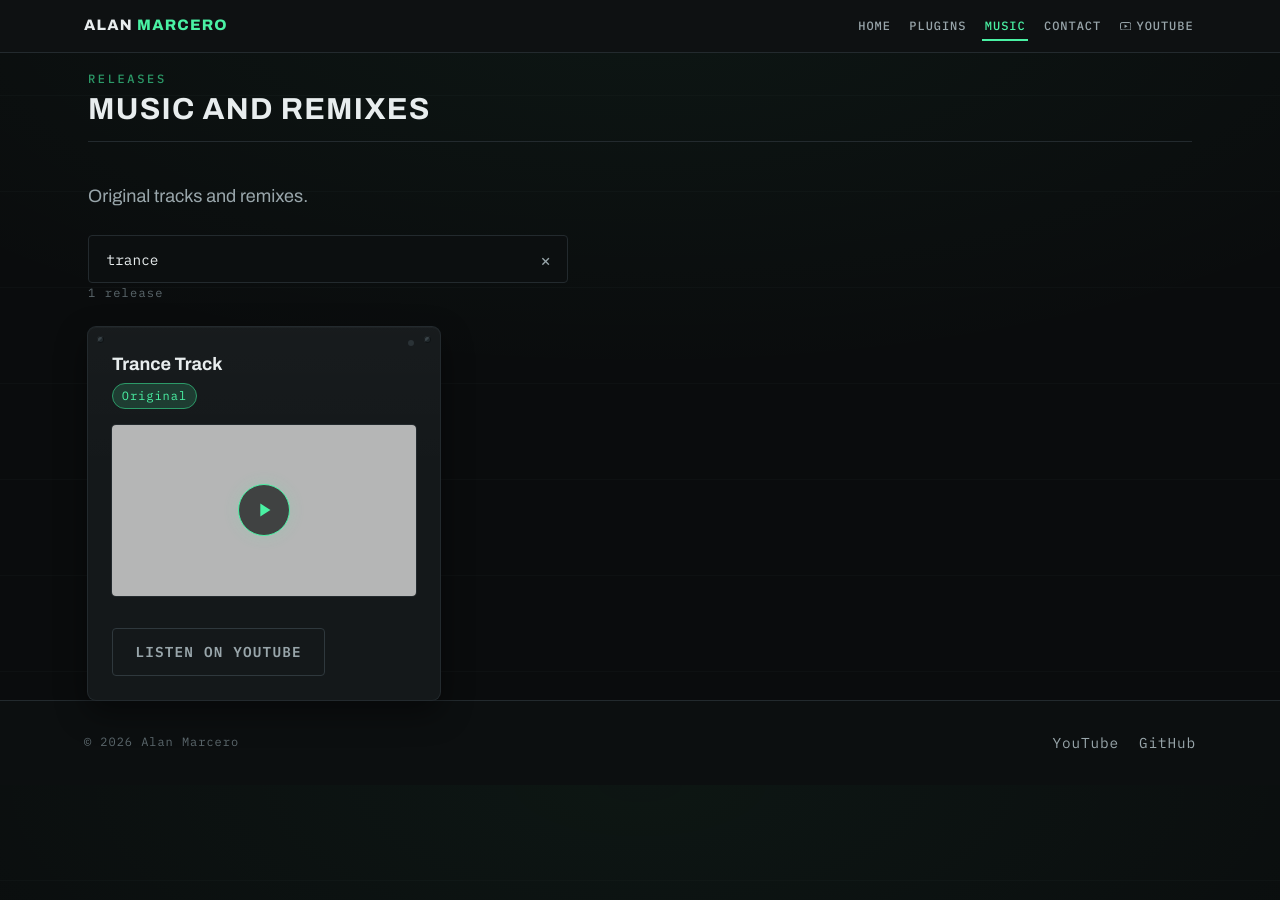
Scenario: MusicPage › hydrates ?q= and restores it on popstate
expect the heading "Trance Track" is shown: met, box [112,351,222,375]
Replace the text in the search field named "Search music" with "abc" at (328, 259), box [88,235,568,283]
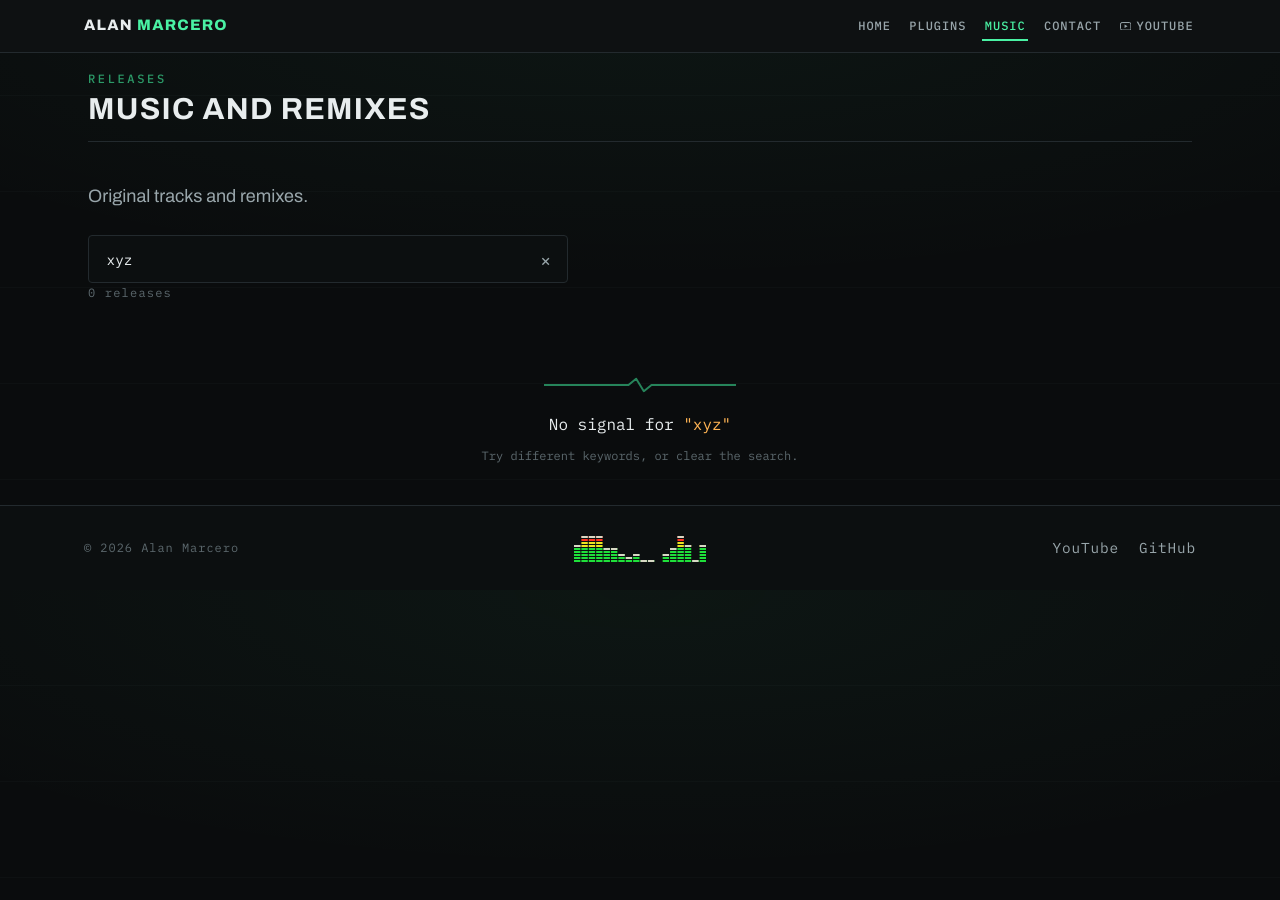
expect the search field named "Search music" holds "xyz": met, box [88,235,568,283]
